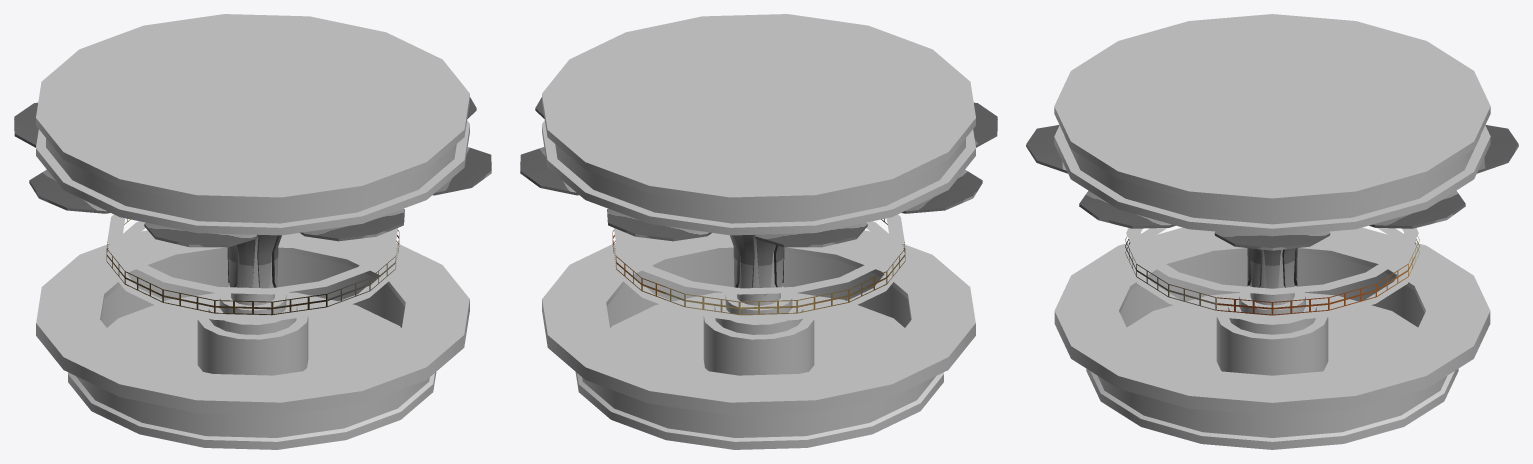
File: Bar.fbx
3 views of the same model, side by side, from view 1: azimuth 30°, elevation 25°; view 2: azimuth 150°, elevation 25°; view 3: azimuth 270°, elevation 25° (orthographic).
Parts seen in each view (by area): view 1: Bar_001; view 2: Bar_001; view 3: Bar_001.
Boxes of the visible parts, x1,y1,x2,y2 form: Bar_001: (14,14,491,449); Bar_001: (520,14,997,449); Bar_001: (1026,14,1518,449).
Bounding box in the file's own units: 1768 × 1049 × 1768.
